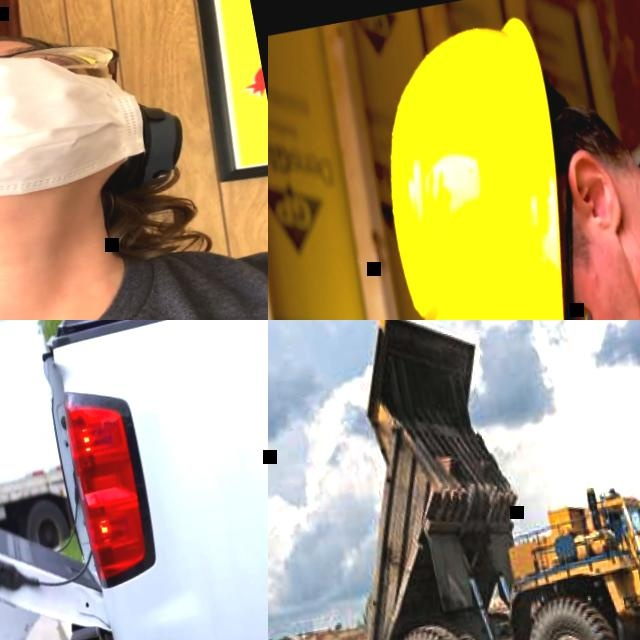Hardhat: (360, 10, 609, 320)
Mask: (0, 38, 154, 226)
NO-Hardhat: (0, 14, 51, 86)
NO-Mask: (567, 247, 640, 320)
NO-Safety Vest: (0, 229, 268, 320)
Person: (363, 0, 640, 320), (0, 0, 268, 320)
machinery: (289, 320, 640, 640)
vehicle: (0, 320, 268, 640)
